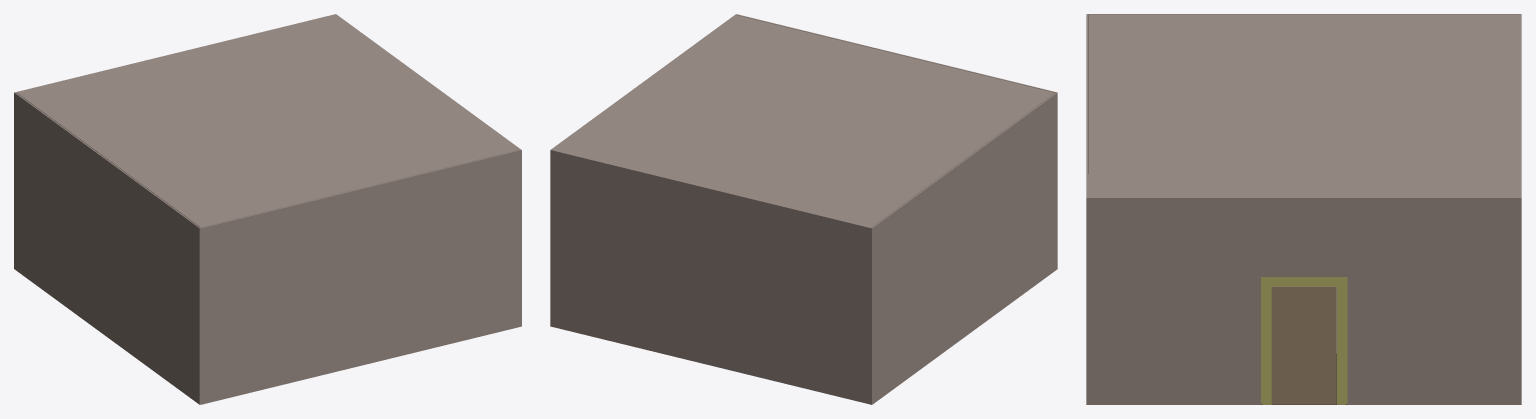
File: Room37_PentagramChamber.fbx
The picture shows the model from 3 angles, left to right: view 1: azimuth 30°, elevation 25°; view 2: azimuth 150°, elevation 25°; view 3: azimuth 270°, elevation 25°; orthographic projection. The views are drawn at different scales.
Visible parts, largest first — view 1: Roof, WallPosZ, WallPosX; view 2: Roof, WallNegZ, WallPosX, WallPosZ, WallSlicedNegX; view 3: WallSlicedNegX, Roof, DoorNegX, DoorFrameNegX, WallPosZ, WallNegZ, WallPosX.
Boxes of the visible parts, x1,y1,x2,y2 form: Roof: (17,15,519,227); WallPosZ: (200,150,521,404); WallPosX: (14,92,200,404); Roof: (552,15,1054,227); WallNegZ: (550,150,871,404); WallPosX: (870,92,1057,404); WallPosZ: (735,14,1056,92); WallSlicedNegX: (550,14,736,326); WallSlicedNegX: (1087,197,1521,404); Roof: (1088,15,1519,197); DoorNegX: (1271,286,1336,404); DoorFrameNegX: (1261,277,1347,404); WallPosZ: (1086,14,1089,404); WallNegZ: (1518,14,1521,404); WallPosX: (1087,14,1521,174).
Size of the model in its own units: 100 by 52.5 by 100.
